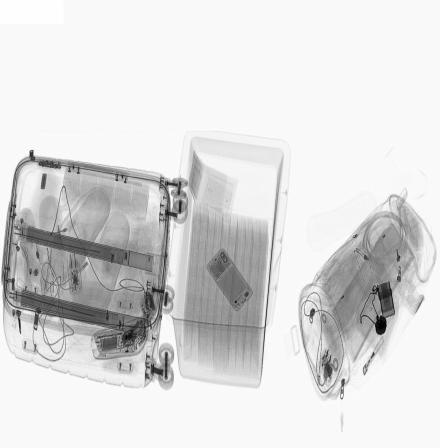Lighter: (361, 335, 386, 378)
